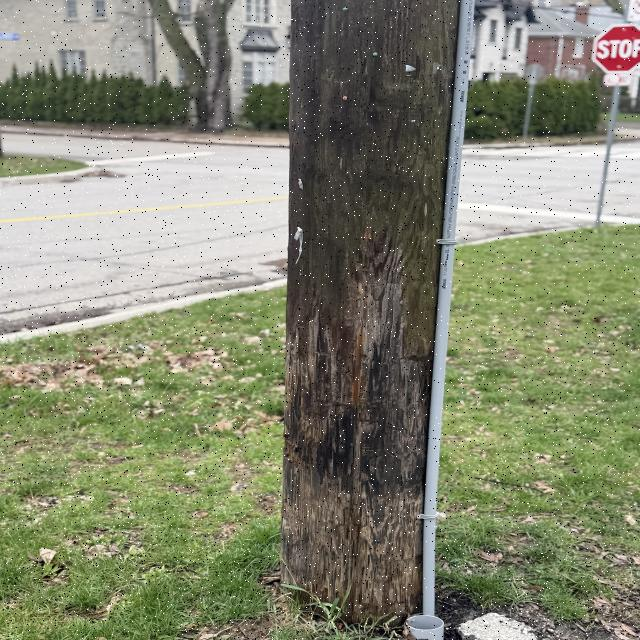Electrical Pole: (277, 2, 478, 639)
